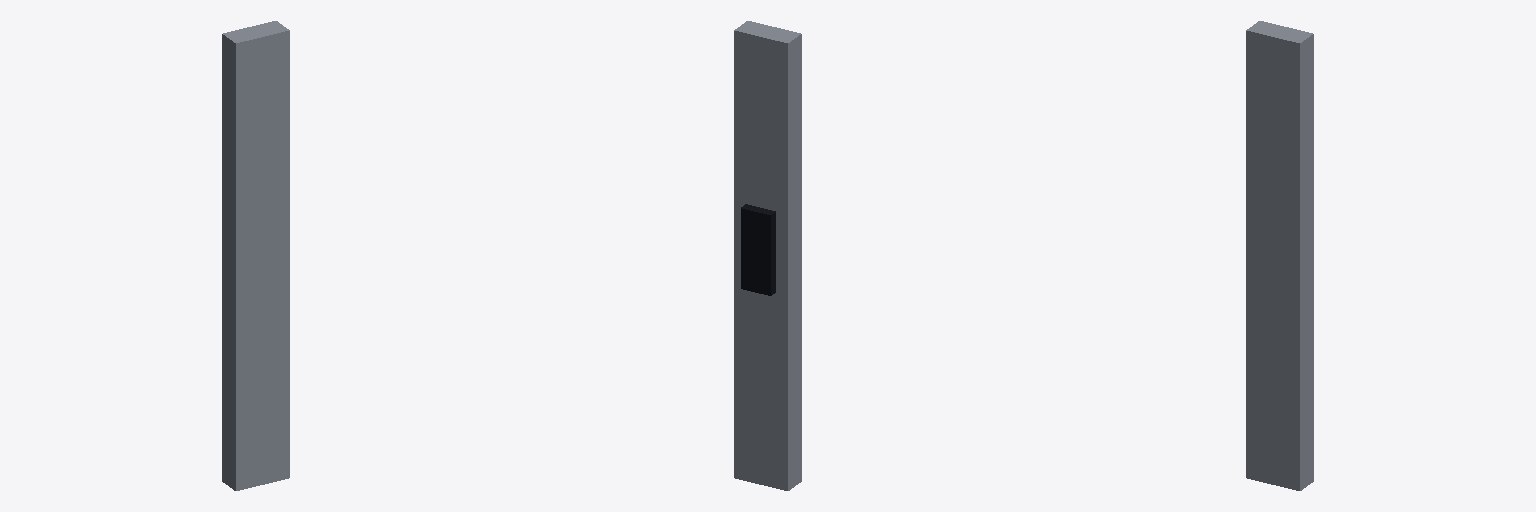
robot.urdf — artmanip_knife_024:
<?xml version='1.0' encoding='utf-8'?>
<robot name="artmanip_knife_024"><link name="link_0"><inertial><mass value="0.029" /><inertia ixx="5.530327232173673e-05" iyy="5.6015086186917275e-05" izz="1.045539894750845e-06" ixy="0" ixz="0" iyz="0" /></inertial><visual><geometry><box size="0.01906804743777542 0.008309438292609318 0.15104656871348615" /></geometry><material name="link_0_color"><color rgba=".58 .60 .64 1" /></material></visual><collision><geometry><box size="0.01906804743777542 0.008309438292609318 0.15104656871348615" /></geometry></collision></link><link name="link_1"><inertial><mass value="0.006" /><inertia ixx="3.7652074586559106e-07" iyy="4.279711535206667e-07" izz="6.28123940917381e-08" ixy="0" ixz="0" iyz="0" /></inertial><visual><geometry><box size="0.0106893779868996 0.0033707545797139293 0.027233793442973008" /></geometry><material name="link_1_color"><color rgba=".12 .13 .15 1" /></material></visual><collision><geometry><box size="0.0106893779868996 0.0033707545797139293 0.027233793442973008" /></geometry></collision></link><joint name="slider" type="prismatic"><parent link="link_0" /><child link="link_1" /><origin xyz="0.0 0.005840096436161624 0.004321447629817666" /><axis xyz="0 0 1" /><limit lower="-0.026978432936840588" upper="0.023021567063159415" effort="100" velocity="1" /><dynamics damping="1000" friction="0.001" /></joint></robot>

--- What the picture shows (computed from the rendered views, not written in the file) ---
Views: 3 orthographic renders of the robot side by side, from view 1: azimuth 30°, elevation 25°; view 2: azimuth 150°, elevation 25°; view 3: azimuth 330°, elevation 25°.
Model artmanip_knife_024 with 2 links and 1 joints (1 prismatic), rooted at link_0, posed every joint at zero.
Visible links, largest first — view 1: link_0; view 2: link_0, link_1; view 3: link_0.
Link boxes in pixels (x1,y1,x2,y2): link_0: (222,21,289,490); link_0: (734,21,801,490); link_1: (741,204,775,295); link_0: (1246,21,1313,490).
Size in the robot's own frame: 0.0191 by 0.0117 by 0.151 metres.
Geometry: primitives only (box / cylinder / sphere), no mesh files.
